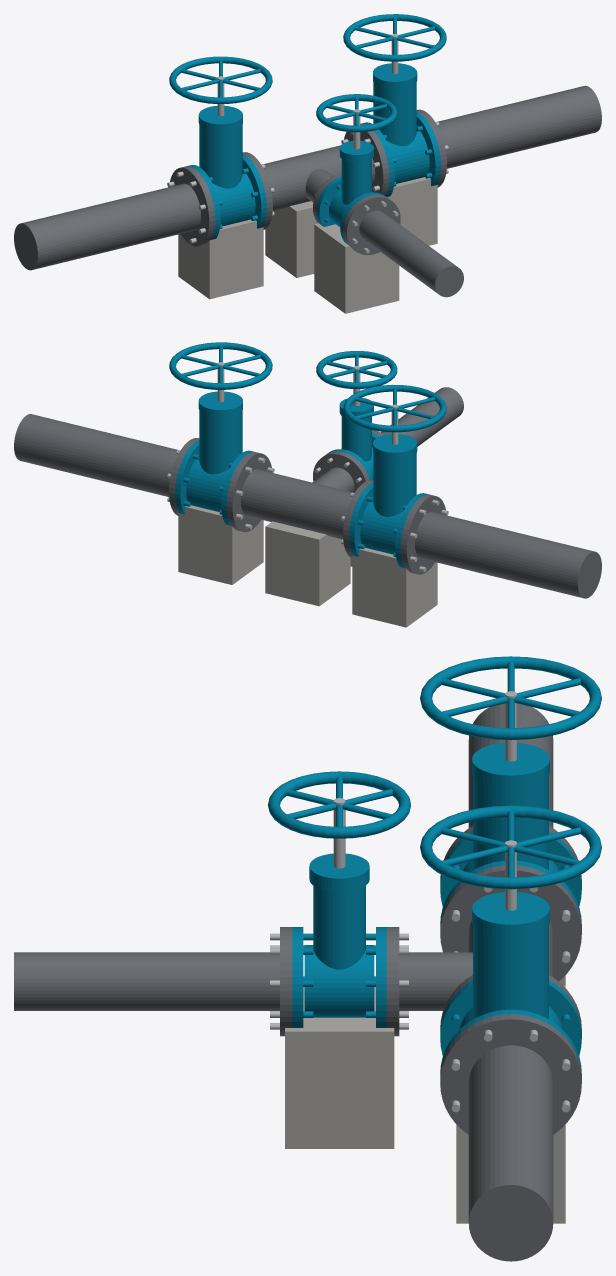
The model's file is nudo.glb.
3 renders of one model, top to bottom at view 1: azimuth 30°, elevation 25°; view 2: azimuth 150°, elevation 25°; view 3: azimuth 270°, elevation 25°, orthographic. The views are drawn at different scales.
Visible parts, largest first — view 1: Apoyos, Tubería DN150 oeste, Válvula DN150 oeste, Tubería DN150 este, Válvula DN150 este, Tubería DN100 derivación, Válvula DN100 derivación, Te DN150x100; view 2: Apoyos, Tubería DN150 oeste, Te DN150x100, Válvula DN150 este, Válvula DN150 oeste, Tubería DN150 este, Válvula DN100 derivación, Tubería DN100 derivación; view 3: Tubería DN150 este, Válvula DN150 este, Válvula DN100 derivación, Tubería DN100 derivación, Apoyos, Válvula DN150 oeste, Te DN150x100, Tubería DN150 oeste.
Part boxes in pixels (x1=…): Apoyos: x1=178, y1=177, x2=437, y2=313; Tubería DN150 oeste: x1=14, y1=166, x2=215, y2=270; Válvula DN150 oeste: x1=169, y1=56, x2=272, y2=239; Tubería DN150 este: x1=416, y1=85, x2=601, y2=187; Válvula DN150 este: x1=343, y1=14, x2=446, y2=196; Tubería DN100 derivación: x1=343, y1=194, x2=463, y2=297; Válvula DN100 derivación: x1=316, y1=94, x2=397, y2=243; Te DN150x100: x1=242, y1=123, x2=389, y2=229; Apoyos: x1=178, y1=505, x2=437, y2=627; Tubería DN150 oeste: x1=400, y1=494, x2=601, y2=598; Te DN150x100: x1=226, y1=451, x2=373, y2=557; Válvula DN150 este: x1=169, y1=342, x2=272, y2=525; Válvula DN150 oeste: x1=343, y1=384, x2=446, y2=568; Tubería DN150 este: x1=14, y1=414, x2=199, y2=515; Válvula DN100 derivación: x1=316, y1=351, x2=397, y2=480; Tubería DN100 derivación: x1=372, y1=387, x2=463, y2=446; Tubería DN150 este: x1=440, y1=1014, x2=581, y2=1261; Válvula DN150 este: x1=420, y1=805, x2=601, y2=1077; Válvula DN100 derivación: x1=268, y1=771, x2=410, y2=1027; Tubería DN100 derivación: x1=14, y1=927, x2=292, y2=1036; Apoyos: x1=285, y1=975, x2=565, y2=1223; Válvula DN150 oeste: x1=420, y1=656, x2=601, y2=928; Te DN150x100: x1=386, y1=865, x2=581, y2=1036; Tubería DN150 oeste: x1=440, y1=703, x2=581, y2=884.
Size of the model in its own units: 2.3 by 0.7955 by 1.18.
